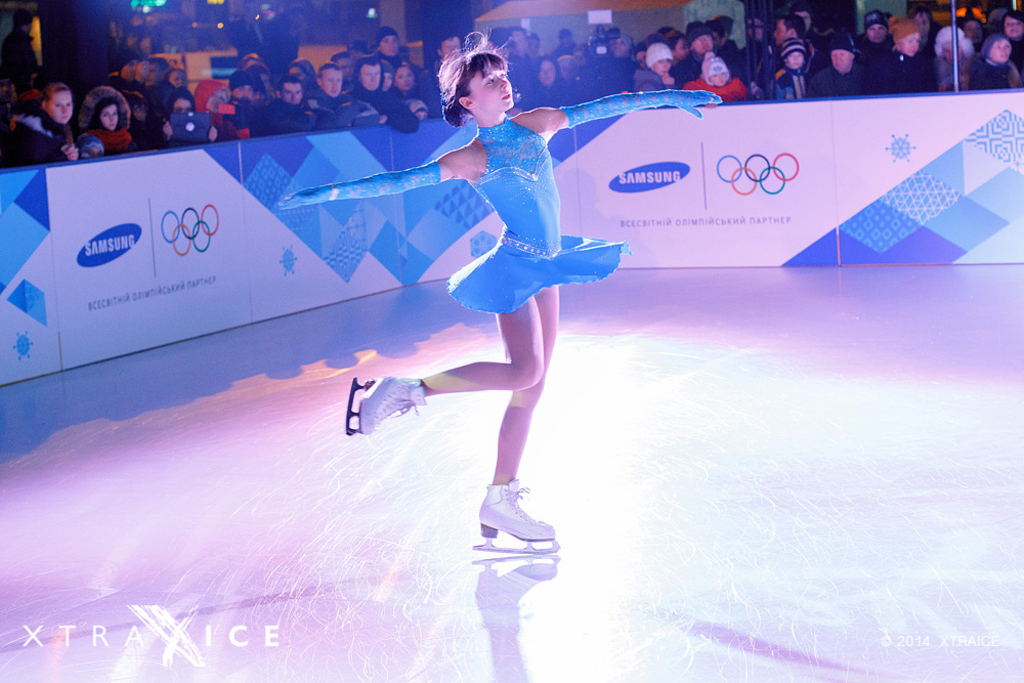Person: (0, 0, 1022, 542)
